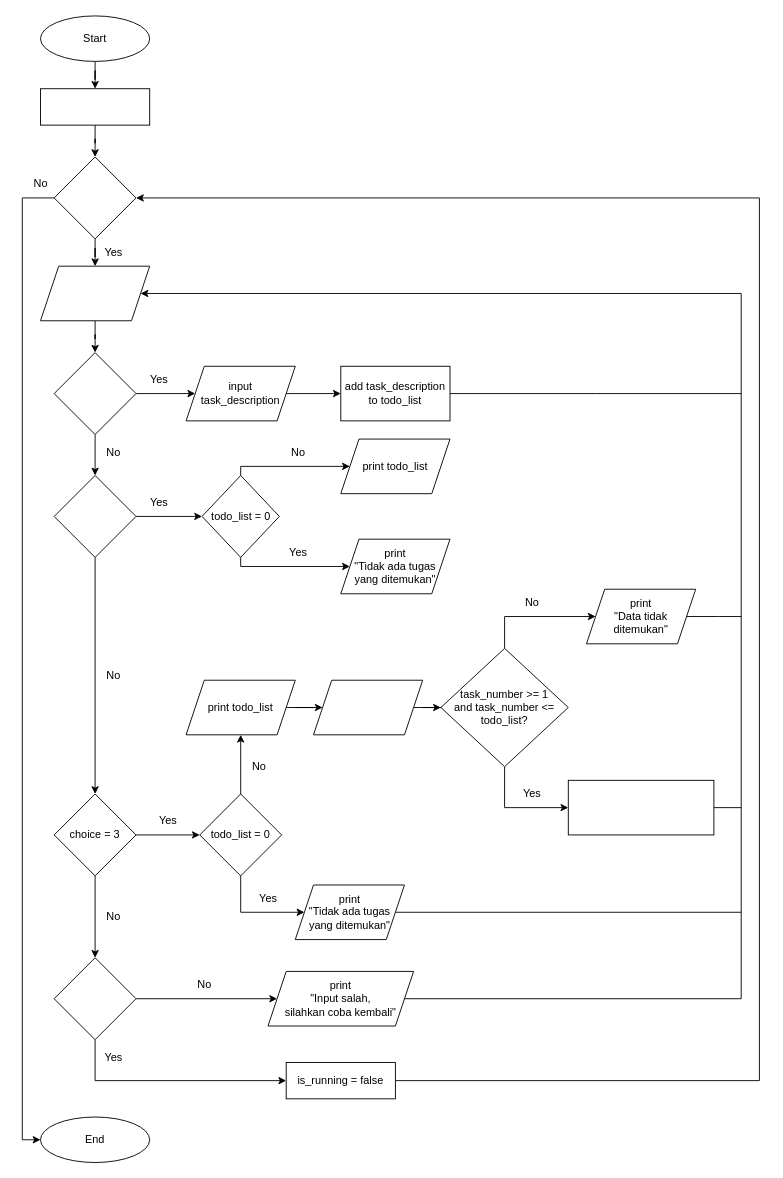
The diagram is 783 pixels wide and 1178 high, and some of its shapes have lost their labels. The shapes that lost their labels are listed below. From the top down, each one's centre as x and y in pixels, then its label:
(x=95, y=106): is_running = true
(x=94, y=197): is_running?
(x=95, y=293): input choice
(x=94, y=393): choice = 1
(x=94, y=516): choice = 2
(x=368, y=707): input task_number
(x=640, y=807): remove todo_list[task_number - 1] from todo_list
(x=94, y=998): choice = 4
